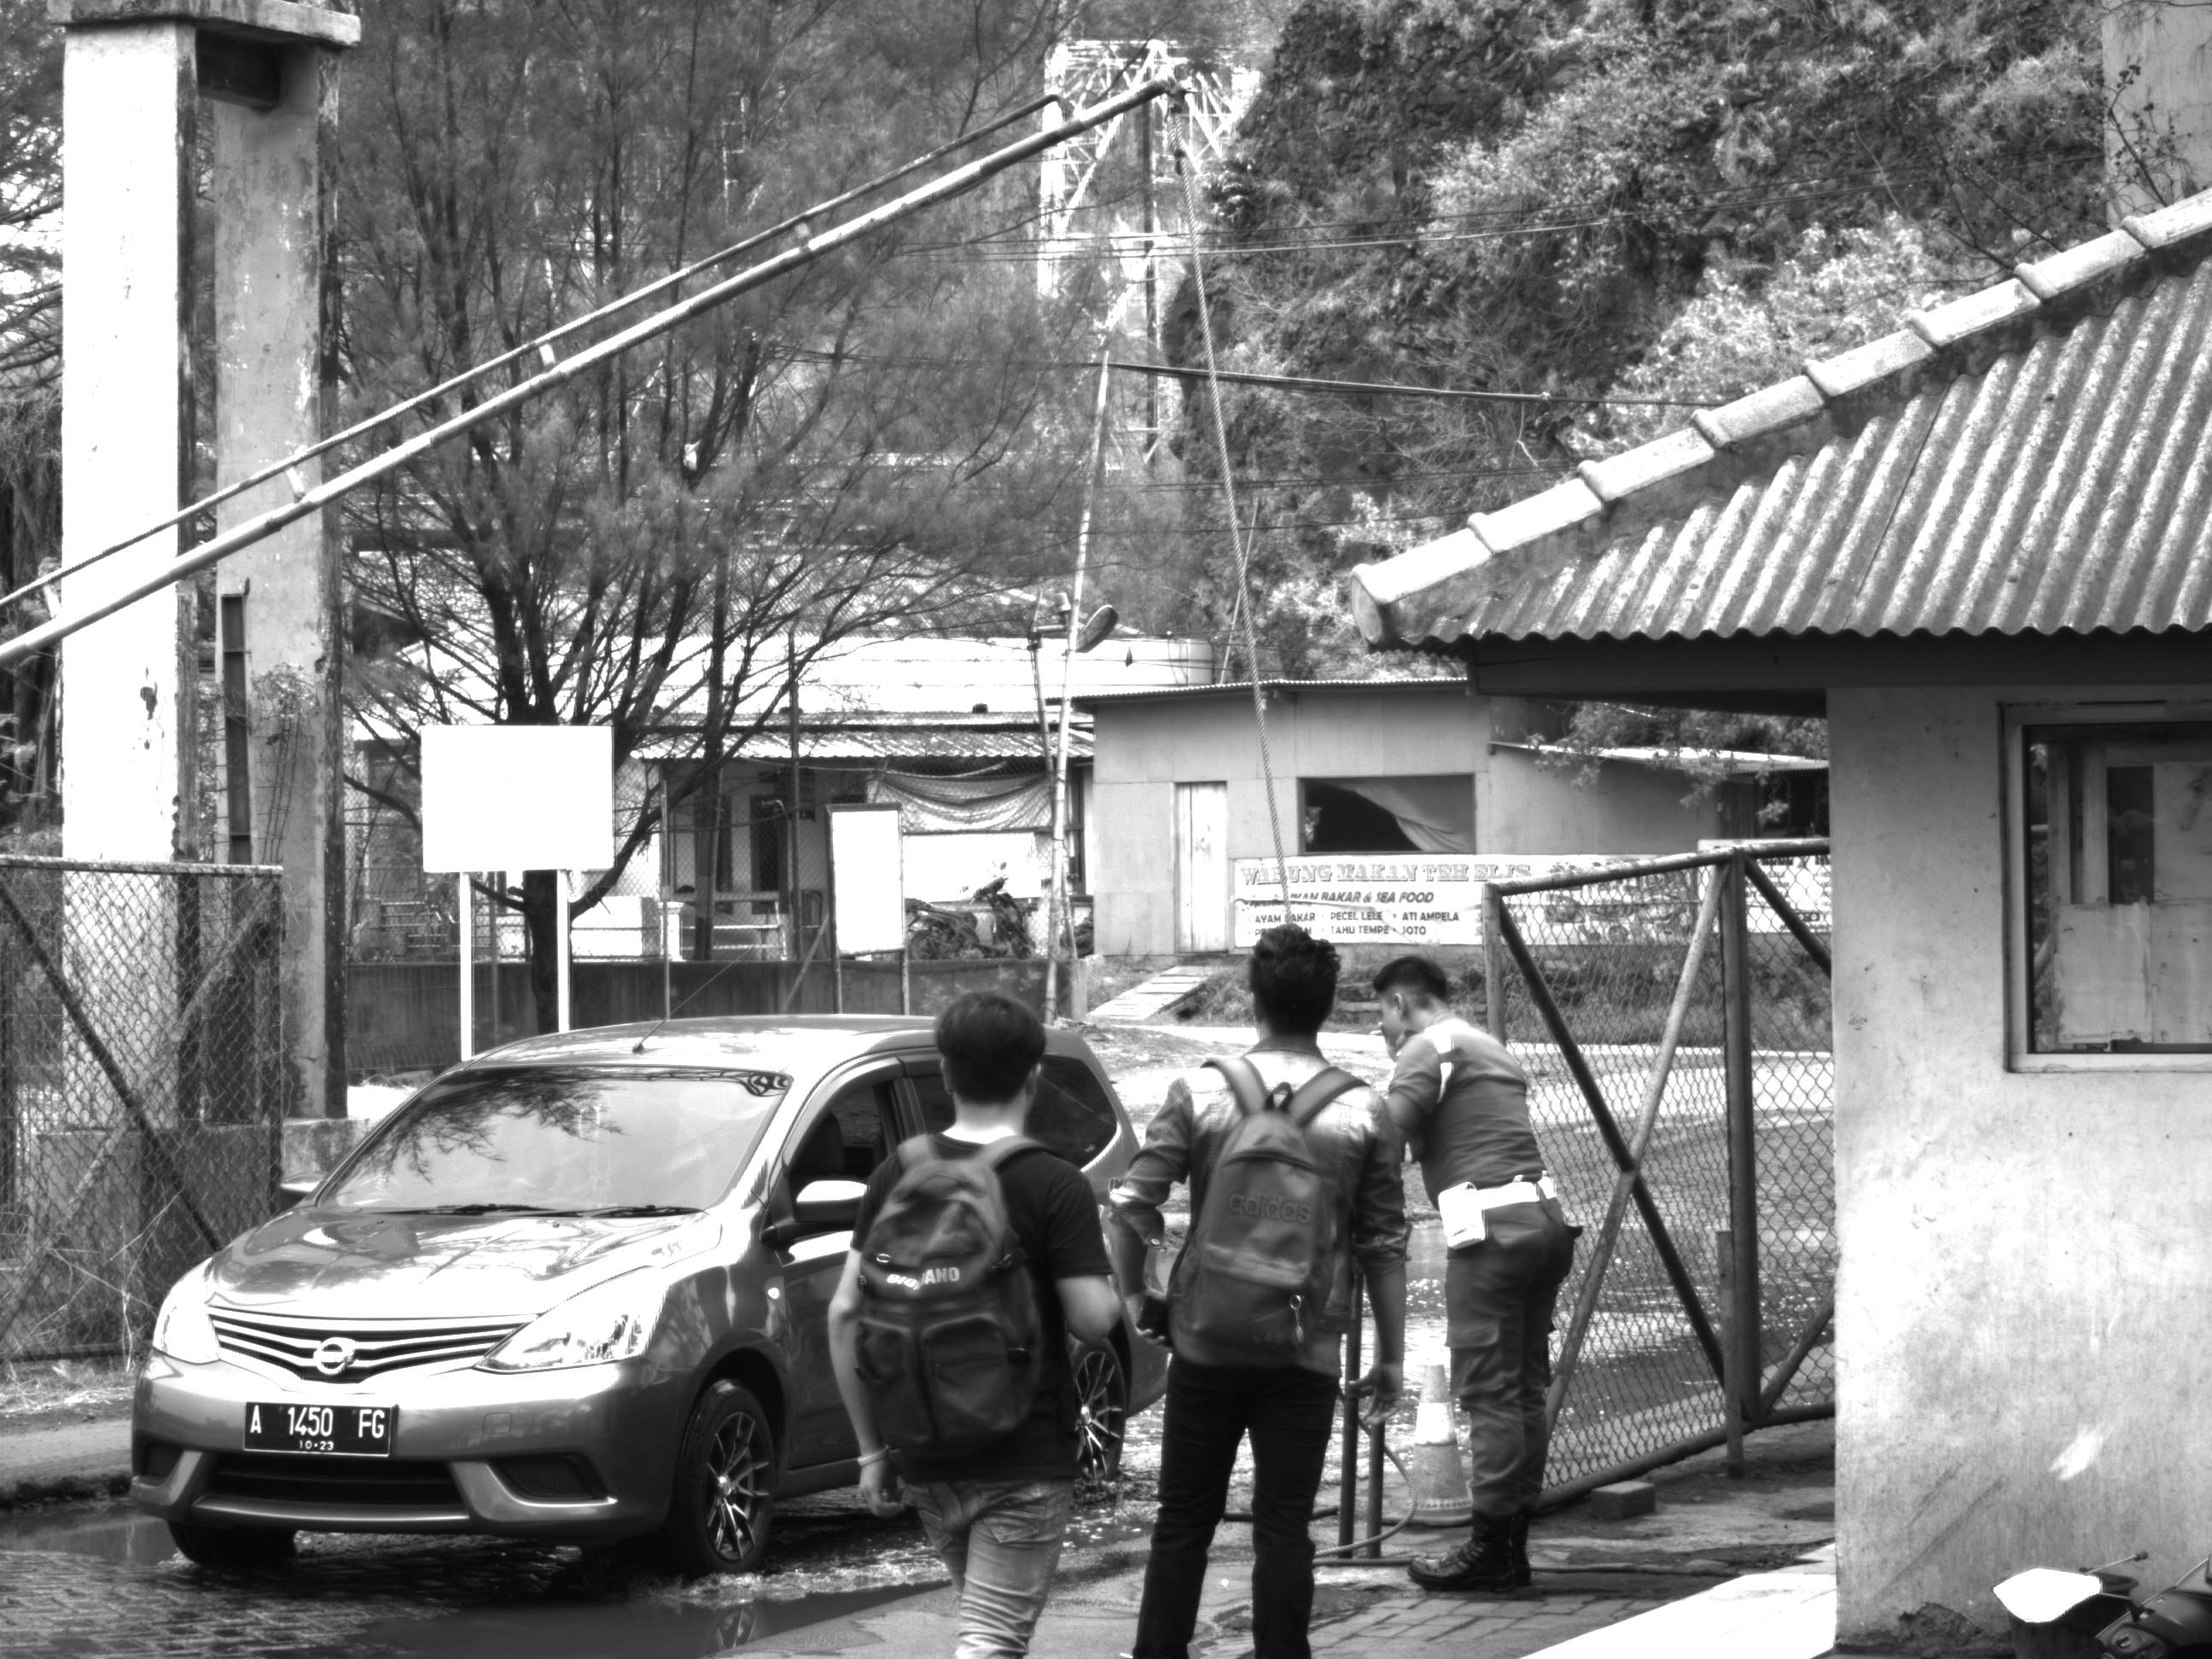day_small_front: (131, 1006, 808, 1588)
plate: (242, 1394, 400, 1468)
